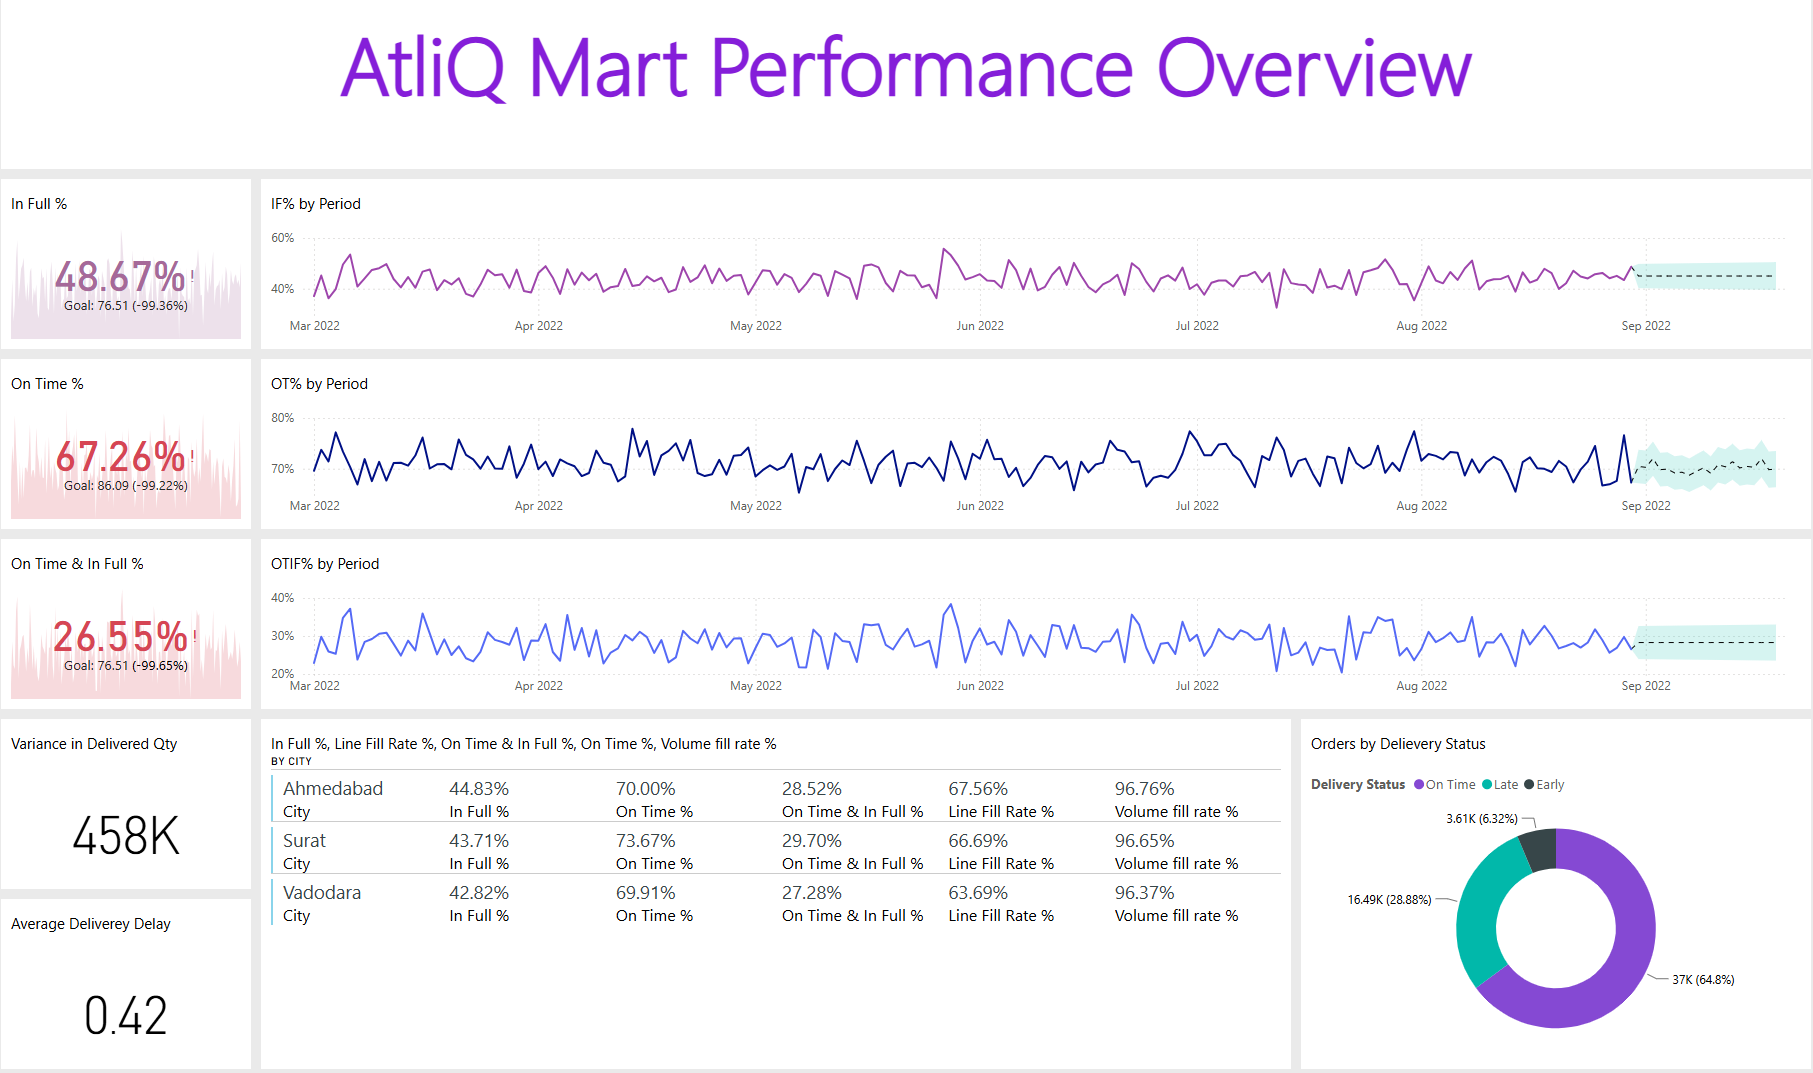

The page's visual inventory and layout, read from the dashboard file:
{"tool":"powerbi","page":{"name":"Executive View ","canvas":[1280,720],"ordinal":0},"visuals":[{"type":"kpi","title":"In Full %","fields":{"Indicator":["Order Metrics.In Full %"],"TrendLine":["Date.Date"],"Goal":["Targets.In Full Targets"]},"box":[420,2.2,258.9,98.9],"z":0},{"type":"kpi","title":"On Time %","fields":{"Indicator":["Order Metrics.On Time %"],"Goal":["Targets.On Time Targets"],"TrendLine":["Date.Date"]},"box":[714.4,2.2,258.9,98.9],"z":1000},{"type":"kpi","title":"On Time & In Full %","fields":{"Indicator":["Order Metrics.On Time & In Full %"],"TrendLine":["Date.Date"],"Goal":["Targets.In Full Targets"]},"box":[1002.2,2.2,258.9,98.9],"z":2000},{"type":"image","box":[10,2.2,126.7,98.9],"z":3000},{"type":"lineChart","title":"OTIF% by Period","fields":{"Category":["Date.Date"],"Y":["fact_orders_aggregate.On Time & In Full %"]},"box":[443.3,121.1,826.7,184.4],"z":4000},{"type":"donutChart","title":"Orders by Delievery Status","fields":{"Category":["Order Lines.Delivery Status"],"Y":["CountNonNull(Order Lines.Order ID)"]},"box":[17.8,121.1,411.1,280],"z":5000},{"type":"lineChart","title":"OT% by Period","fields":{"Category":["Date.Date"],"Y":["Order Metrics.On Time %"]},"box":[443.3,315.6,826.7,188.9],"z":6000},{"type":"lineChart","title":"IF% by Period","fields":{"Category":["Date.Date"],"Y":["Order Metrics.In Full %"]},"box":[443.3,516.7,826.7,187.8],"z":7000},{"type":"shape","box":[10,101.1,1260,21.1],"z":8000},{"type":"slicer","fields":{"Values":["Date.Date"]},"box":[150,11.1,242.2,90],"z":9000},{"type":"shape","box":[120,11.1,30,90],"z":10000},{"type":"treemap","title":"Delievery Delay","fields":{"Group":["Order Lines.Delivery Delay"],"Values":["CountNonNull(Order Lines.Order ID)"]},"box":[17.8,423.3,411.1,281.1],"z":11000}]}

Visuals, with their boxes on the page's 1280x720 design canvas (x1, y1, x2, y2). These are canvas units, not pixel positions in the 1813x1073 screenshot, which may show the page scaled, cropped or inside an application window:
"In Full %" kpi: region(420, 2, 679, 101)
"On Time %" kpi: region(714, 2, 973, 101)
"On Time & In Full %" kpi: region(1002, 2, 1261, 101)
image: region(10, 2, 137, 101)
"OTIF% by Period" lineChart: region(443, 121, 1270, 306)
"Orders by Delievery Status" donutChart: region(18, 121, 429, 401)
"OT% by Period" lineChart: region(443, 316, 1270, 504)
"IF% by Period" lineChart: region(443, 517, 1270, 704)
shape: region(10, 101, 1270, 122)
slicer - Date.Date: region(150, 11, 392, 101)
shape: region(120, 11, 150, 101)
"Delievery Delay" treemap: region(18, 423, 429, 704)
